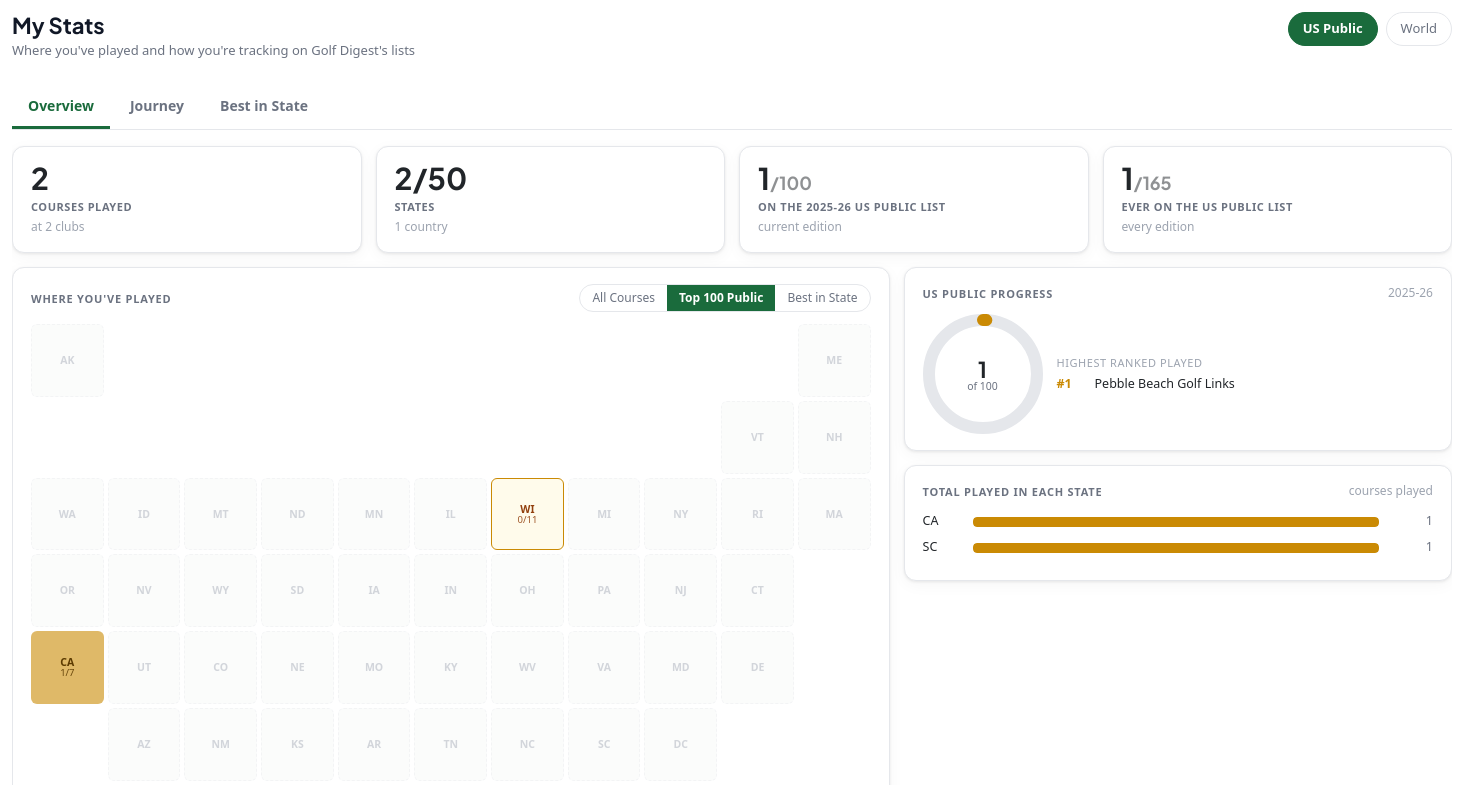
Test case: Stats overview › lists Best in State courses when a state is clicked on the Best in State map layer
Click the button "Best in State".
click(822, 298)  # box [775,285,870,311]
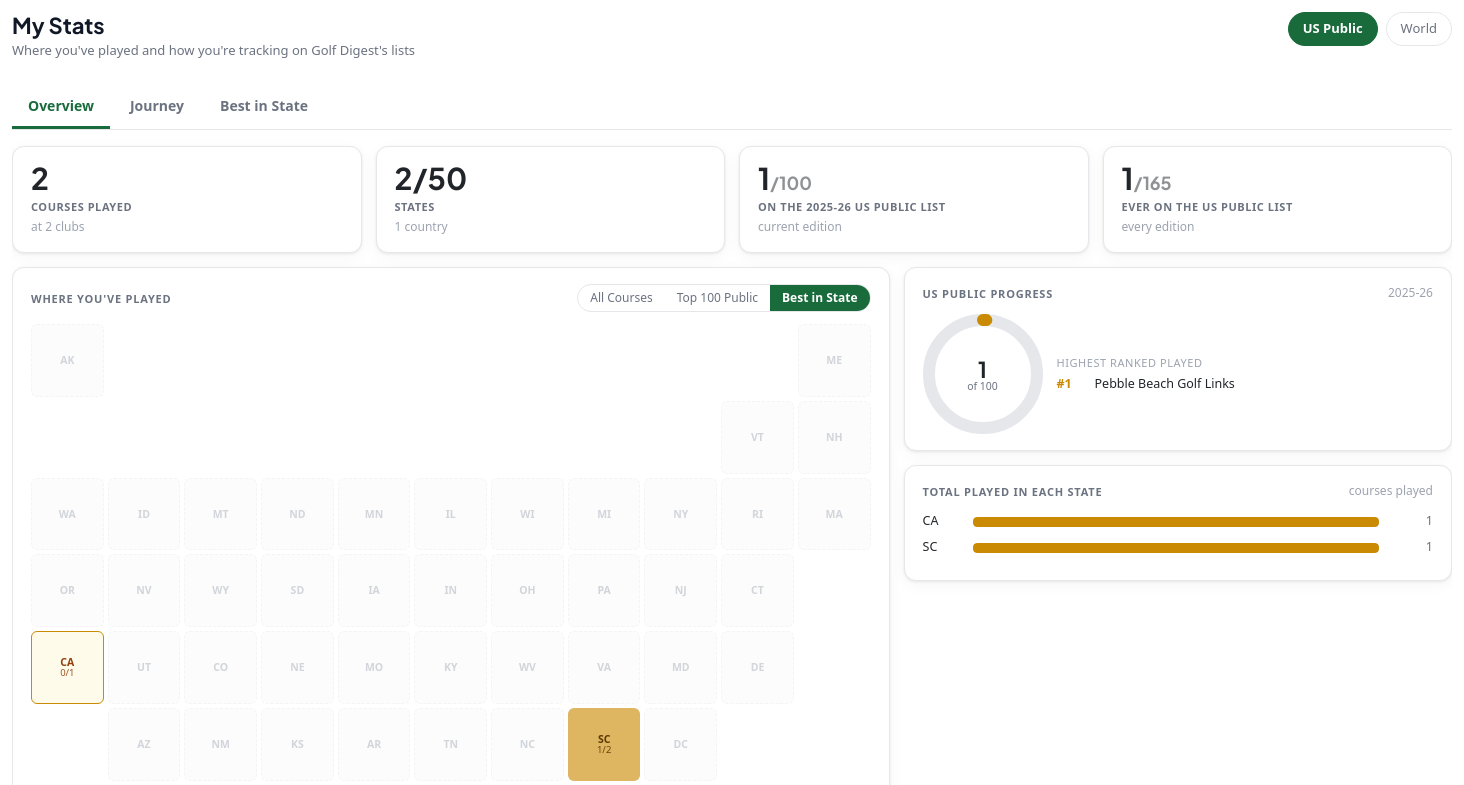
Click the button titled "South Carolina: 1 of 2 Best in State courses played".
click(604, 744)  # box [568,708,640,780]
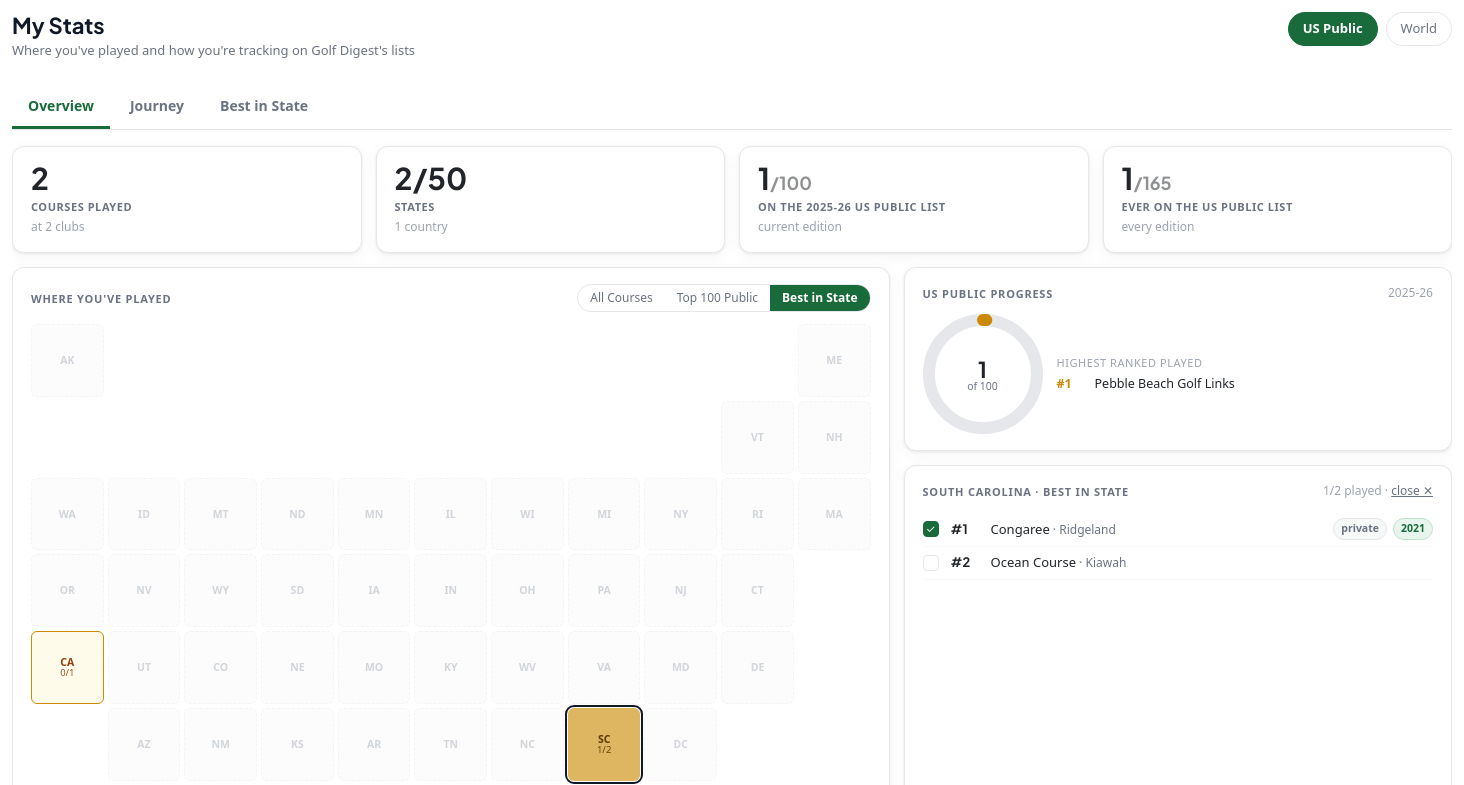
Now the text "Congaree" is shown, box [990,520,1050,538]
